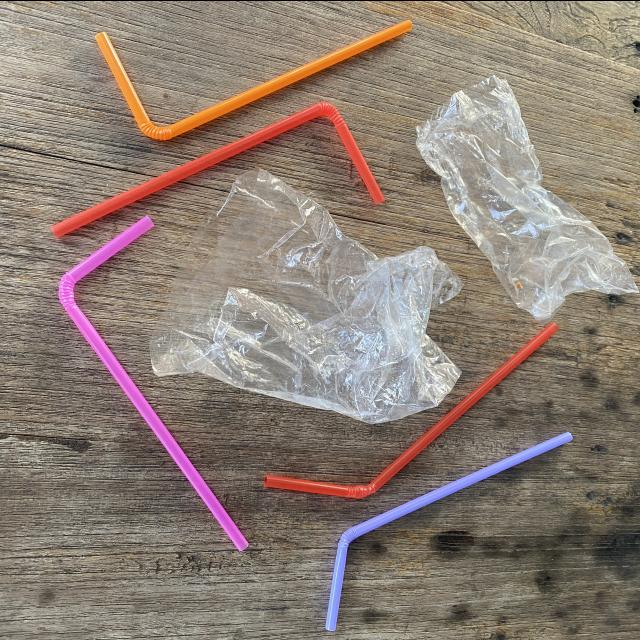plastik: (151, 169, 462, 423), (59, 215, 248, 550), (416, 76, 638, 323), (264, 322, 558, 497), (326, 433, 572, 630), (51, 101, 384, 236), (96, 20, 412, 139)
